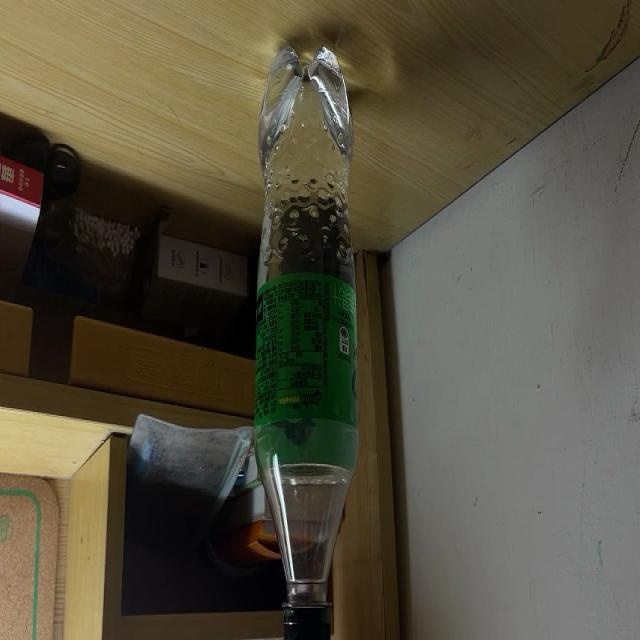Sprite: (252, 44, 361, 640)
